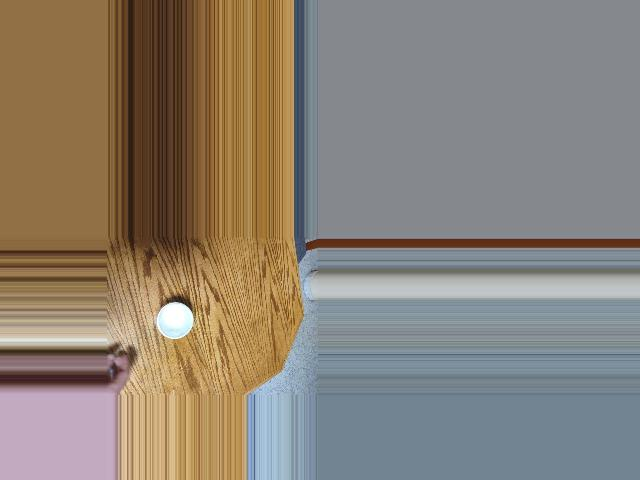cotage: (153, 302, 196, 342)
